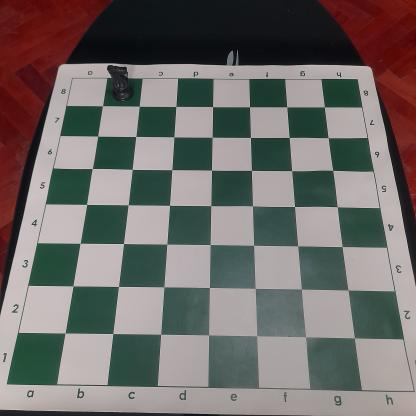black-knight: (106, 64, 137, 104)
